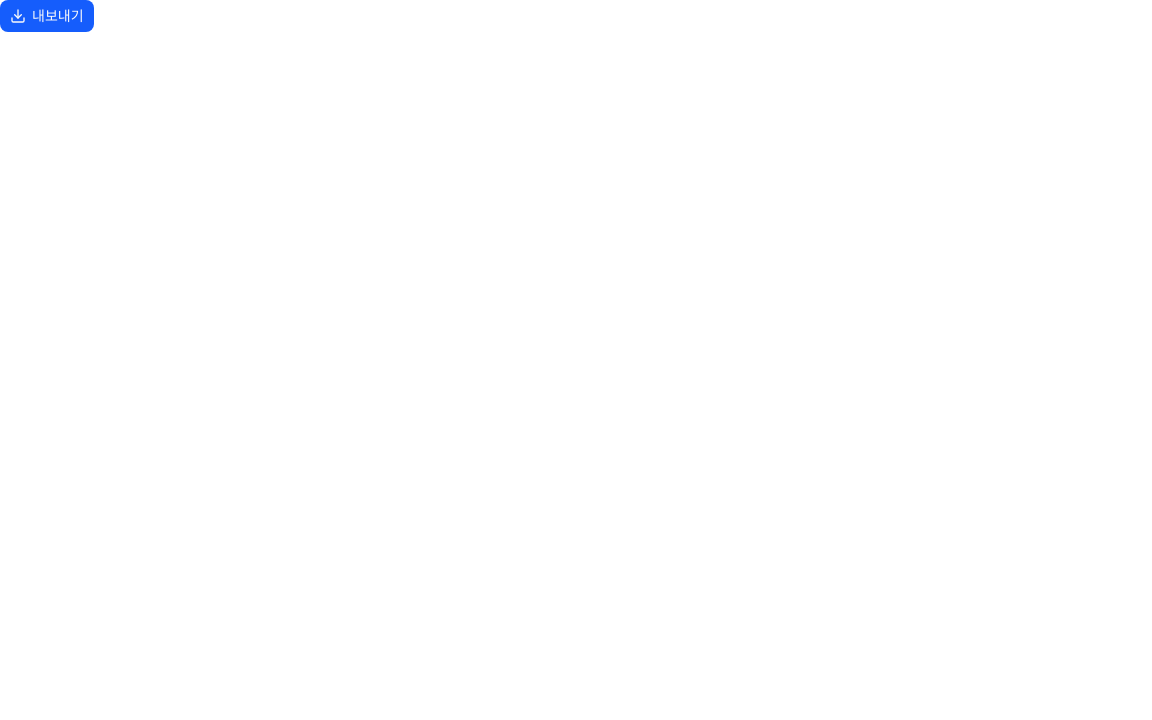
Test: 내보내기 › 인코딩을 지원하지 않으면 이유를 보여준다
Click the button "내보내기": (47, 16) [0,0,94,32]
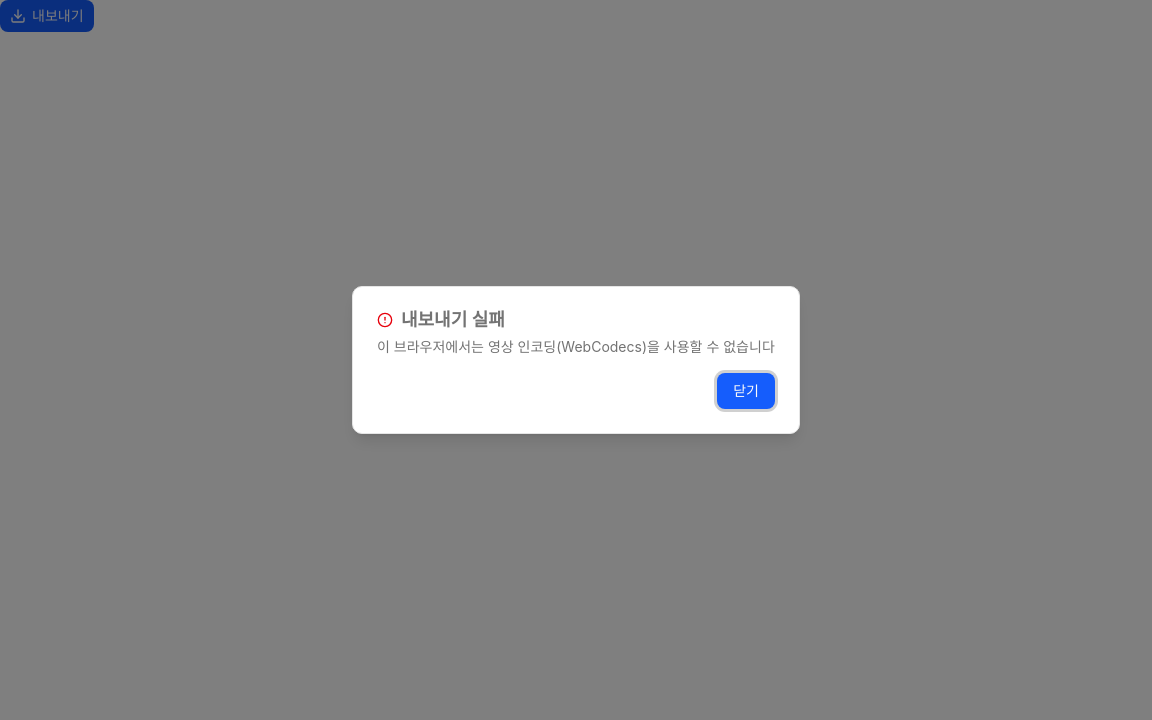
Result: the dialog "내보내기 실패" shows "WebCodecs" at [377,338,775,355]
